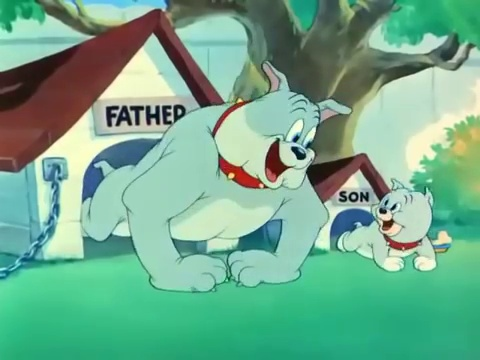spike: (209, 61, 355, 204)
